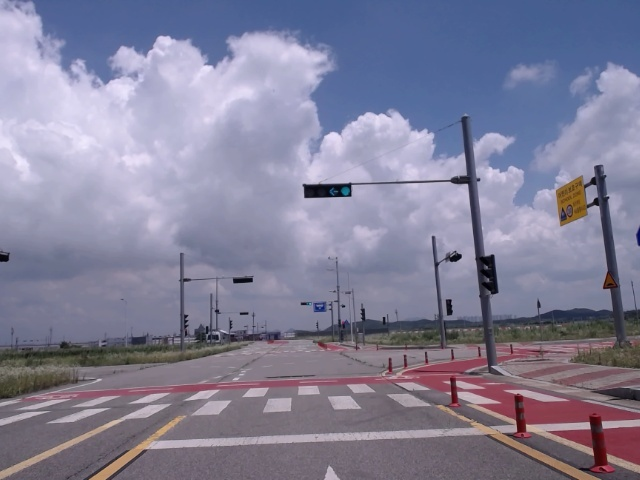all_green_4: (303, 185, 352, 198)
